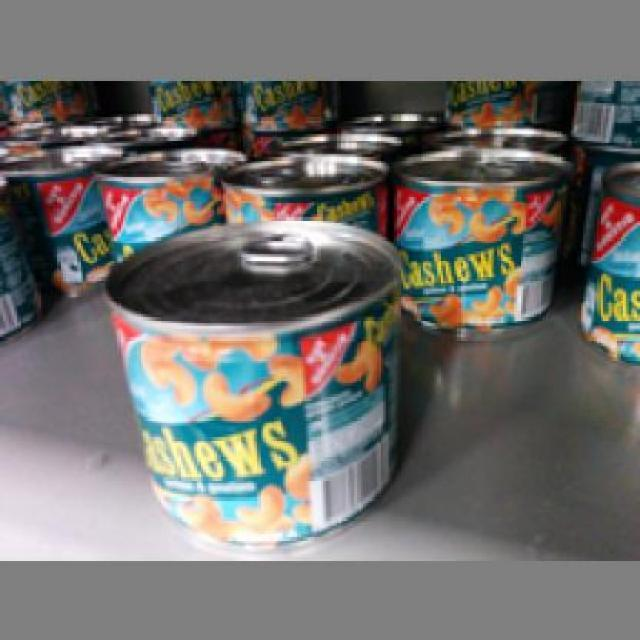Nuts: (103, 214, 406, 546), (391, 143, 564, 337), (568, 163, 638, 360)
